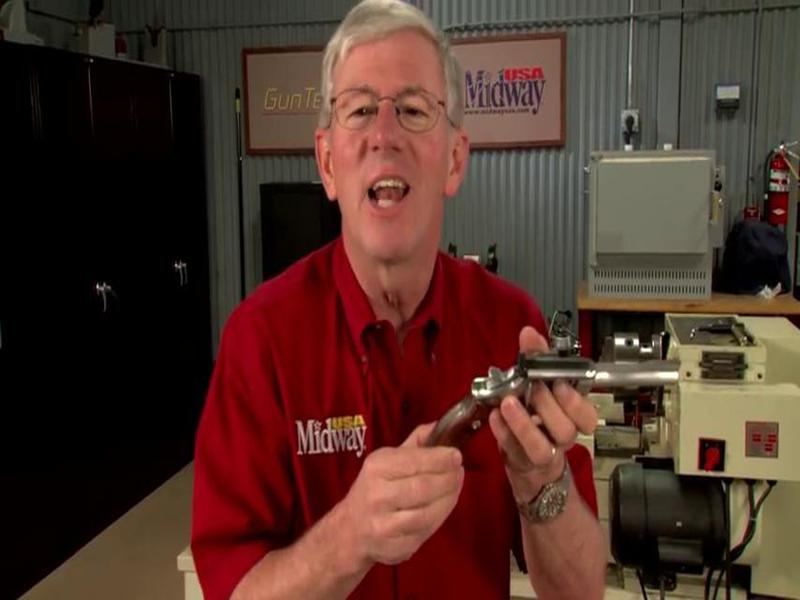Revolver: (401, 334, 691, 504)
